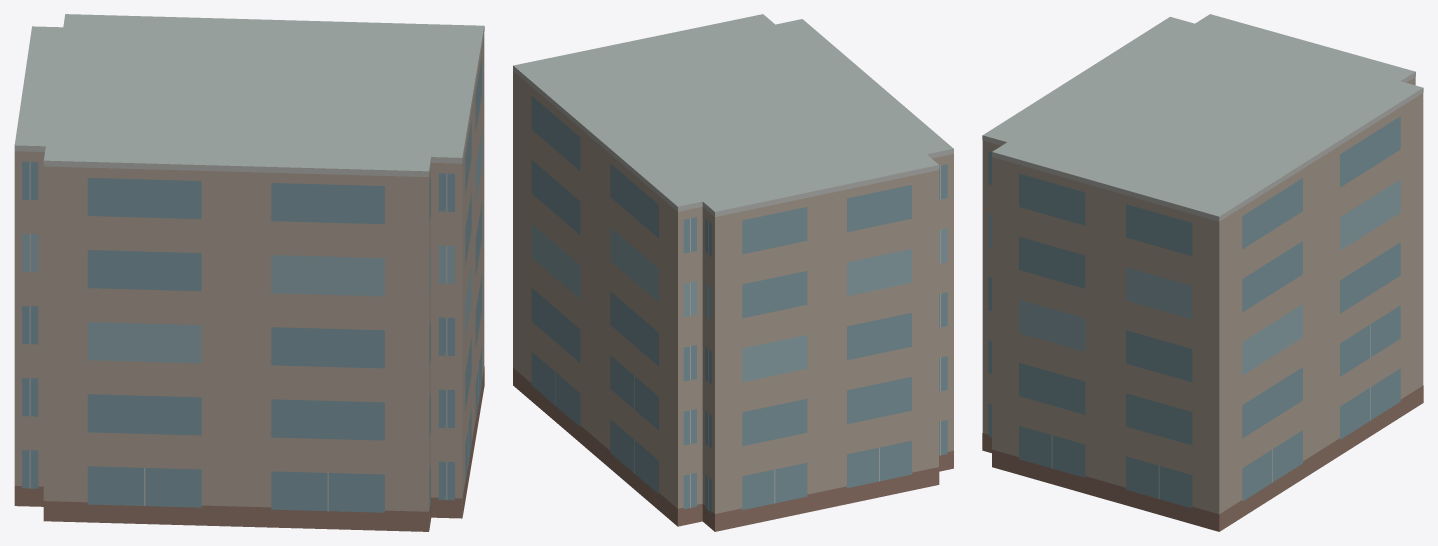
The model's file is survey-upis-33038158.glb.
The picture shows the model from 3 angles, left to right: view 1: azimuth 30°, elevation 25°; view 2: azimuth 150°, elevation 25°; view 3: azimuth 270°, elevation 25°; orthographic projection. The views are drawn at different scales.
Visible parts, largest first — view 1: survey-upis-33038158.tmp; view 2: survey-upis-33038158.tmp; view 3: survey-upis-33038158.tmp.
Boxes of the visible parts, left/top/right/bottom form: survey-upis-33038158.tmp: left=14, top=14, right=484, bottom=531; survey-upis-33038158.tmp: left=513, top=14, right=953, bottom=531; survey-upis-33038158.tmp: left=982, top=14, right=1423, bottom=531.
Size of the model in its own units: 21.03 by 15.25 by 19.34.
